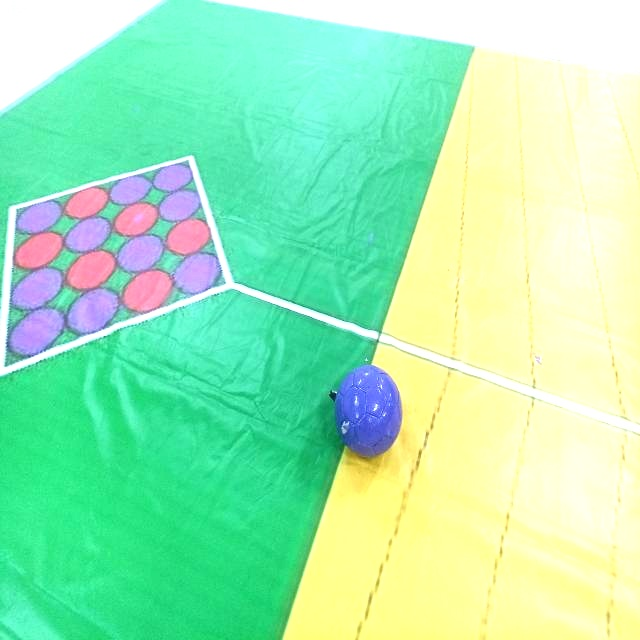purple_ball: (346, 367, 403, 454)
